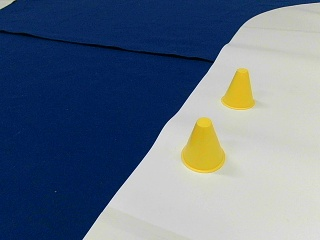cone: (181, 118, 226, 172), (222, 69, 256, 109)
